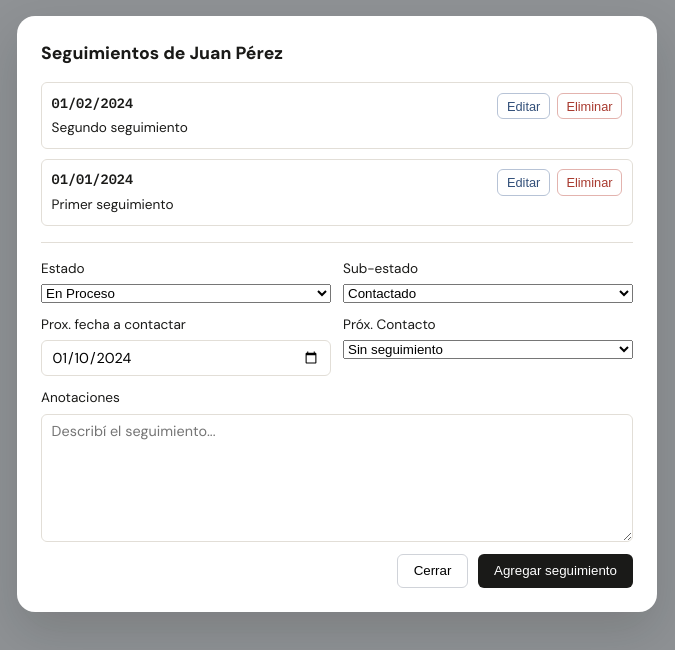
Test case: SeguimientosModal › "Cancelar edición" vuelve el form a modo alta (label vuelve a "Agregar seguimiento" y el form queda limpio)
Click the button with class "seguimientos-modal__boton-editar" in the row of "01/01/2024" at [524, 183], box [497,169,550,196]
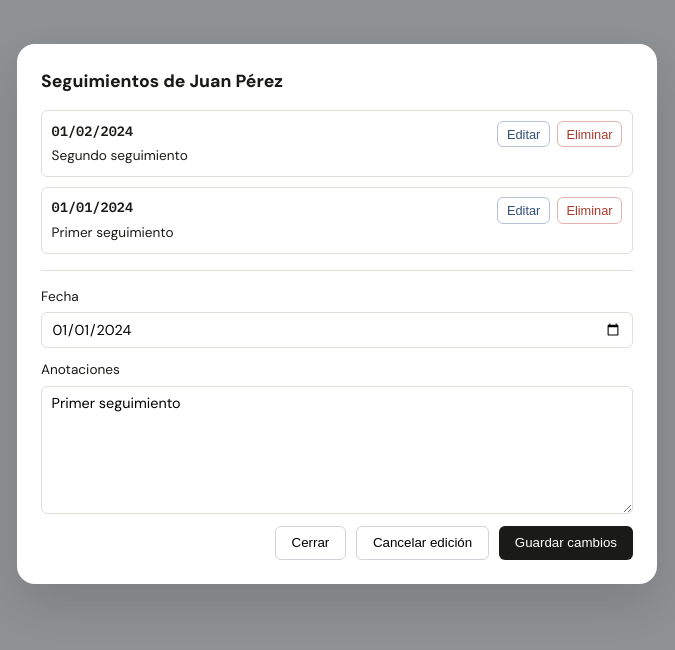
Check: the button with class "seguimientos-modal__boton-agregar" reads "Guardar cambios", box [499,526,633,560]
Check: the button with class "seguimientos-modal__boton-cerrar" showing "Cancelar edición" is shown
Click the button with class "seguimientos-modal__boton-cerrar" showing "Cancelar edición" at [423, 543], box [356,526,489,560]
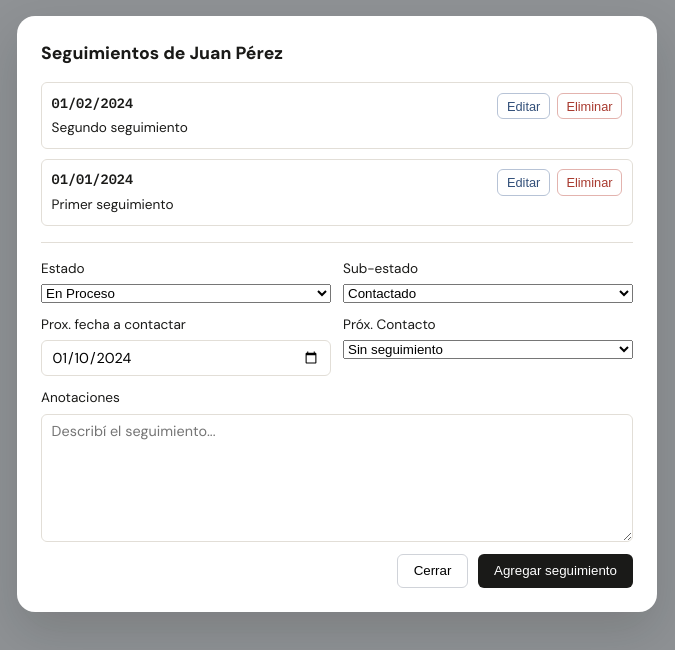
Check: the button with class "seguimientos-modal__boton-agregar" reads "Agregar seguimiento", box [478,554,633,588]
Check: the text box labelled "Anotaciones" is empty, box [41,414,633,542]
